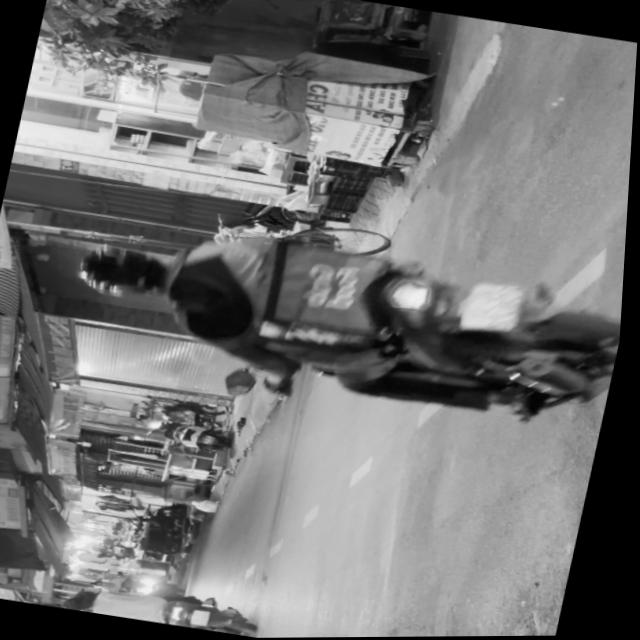helmet: (75, 237, 179, 303)
licenseplate: (53, 187, 631, 446)
nohelmet: (463, 276, 526, 335)
